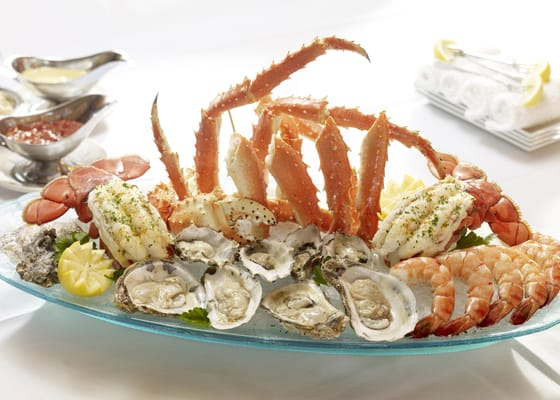sushi: (0, 94, 111, 162)
